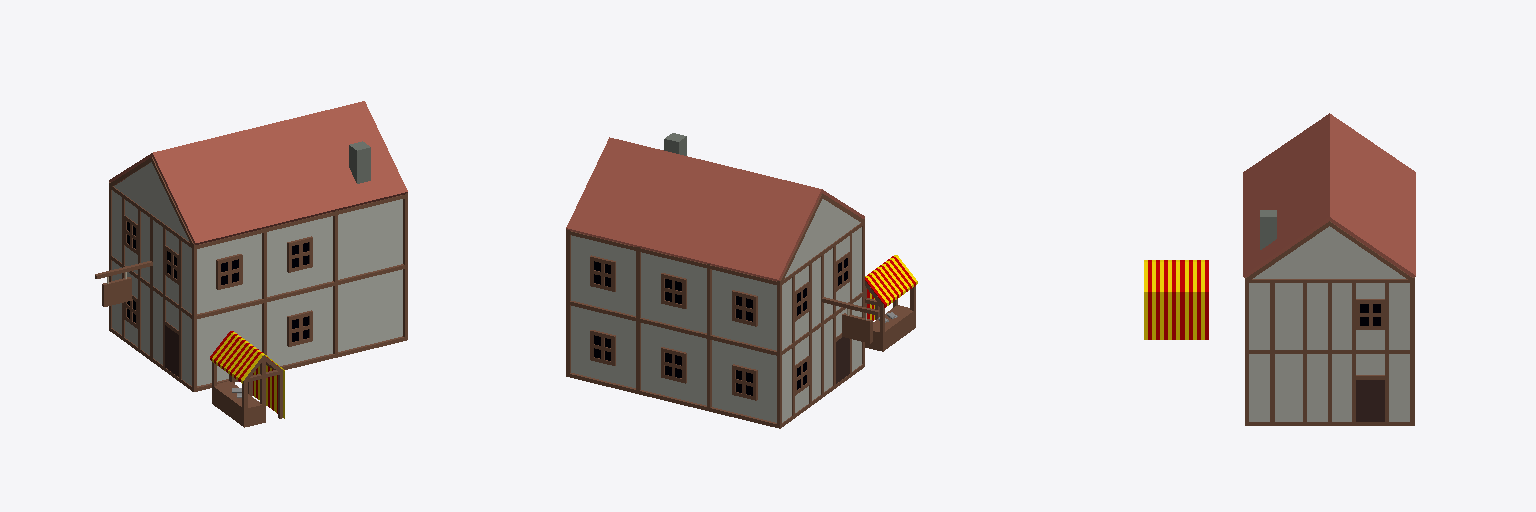
The model's file is timberframedclothier_red_yellow.obj.
The picture shows the model from 3 angles: view 1: azimuth 30°, elevation 25°; view 2: azimuth 150°, elevation 25°; view 3: azimuth 270°, elevation 25°; orthographic projection.
Visible parts, largest first — view 1: Cube.005, Cube.007_Cube.011, Cube.011_Cube.015, Cube.018_Cube.016, Cube.056_Cube.081, Cube.001_Cube.058, Cube.013_Cube.080, Cube.006_Cube.010, Cube.055_Cube.059, Cube.026_Cube.019, Cube.073_Cube.078, Cube.012_Cube.017 (+5 smaller); view 2: Cube.005, Cube.007_Cube.011, Cube.023_Cube.026, Cube.022_Cube.025, Cube.021_Cube.024, Cube.015_Cube.020, Cube.019_Cube.022, Cube.017_Cube.021, Cube.014_Cube.018, Cube.008, Cube.020_Cube.023, Cube.073_Cube.078 (+6 smaller); view 3: Cube.005, Cube.007_Cube.011, Cube.147_Cube.153, Cube.003, Cube.033, Cube.027, Cube.047_Cube.049, Cube.031, Cube.016_Cube.013, Cube.006_Cube.010, Cube.012_Cube.017, Cube.035 (+4 smaller).
Boxes of the visible parts, <box> form: Cube.005: <box>112,162,402,385</box>; Cube.007_Cube.011: <box>109,101,407,244</box>; Cube.011_Cube.015: <box>195,264,406,319</box>; Cube.018_Cube.016: <box>195,195,406,249</box>; Cube.056_Cube.081: <box>216,254,242,289</box>; Cube.001_Cube.058: <box>287,310,312,346</box>; Cube.013_Cube.080: <box>287,236,312,272</box>; Cube.006_Cube.010: <box>349,141,370,183</box>; Cube.055_Cube.059: <box>197,336,406,391</box>; Cube.026_Cube.019: <box>192,243,196,391</box>; Cube.073_Cube.078: <box>102,277,131,306</box>; Cube.012_Cube.017: <box>403,193,407,339</box>; Cube.005: <box>571,199,861,422</box>; Cube.007_Cube.011: <box>566,137,864,280</box>; Cube.023_Cube.026: <box>567,373,776,427</box>; Cube.022_Cube.025: <box>567,301,776,355</box>; Cube.021_Cube.024: <box>570,231,776,284</box>; Cube.015_Cube.020: <box>732,290,757,326</box>; Cube.019_Cube.022: <box>661,347,686,383</box>; Cube.017_Cube.021: <box>590,330,615,365</box>; Cube.014_Cube.018: <box>661,273,686,308</box>; Cube.008: <box>590,255,615,291</box>; Cube.020_Cube.023: <box>732,364,757,400</box>; Cube.073_Cube.078: <box>842,313,872,343</box>; Cube.005: <box>1249,226,1409,421</box>; Cube.007_Cube.011: <box>1243,113,1415,277</box>; Cube.147_Cube.153: <box>1144,292,1208,339</box>; Cube.003: <box>1356,380,1384,421</box>; Cube.033: <box>1356,299,1384,329</box>; Cube.027: <box>1410,277,1414,425</box>; Cube.047_Cube.049: <box>1270,279,1274,423</box>; Cube.031: <box>1249,422,1410,425</box>; Cube.016_Cube.013: <box>1248,350,1409,353</box>; Cube.006_Cube.010: <box>1260,210,1276,249</box>; Cube.012_Cube.017: <box>1245,277,1248,425</box>; Cube.035: <box>1352,279,1355,423</box>.
Bounding box in the file's own units: 15.3 × 11.25 × 13.34.